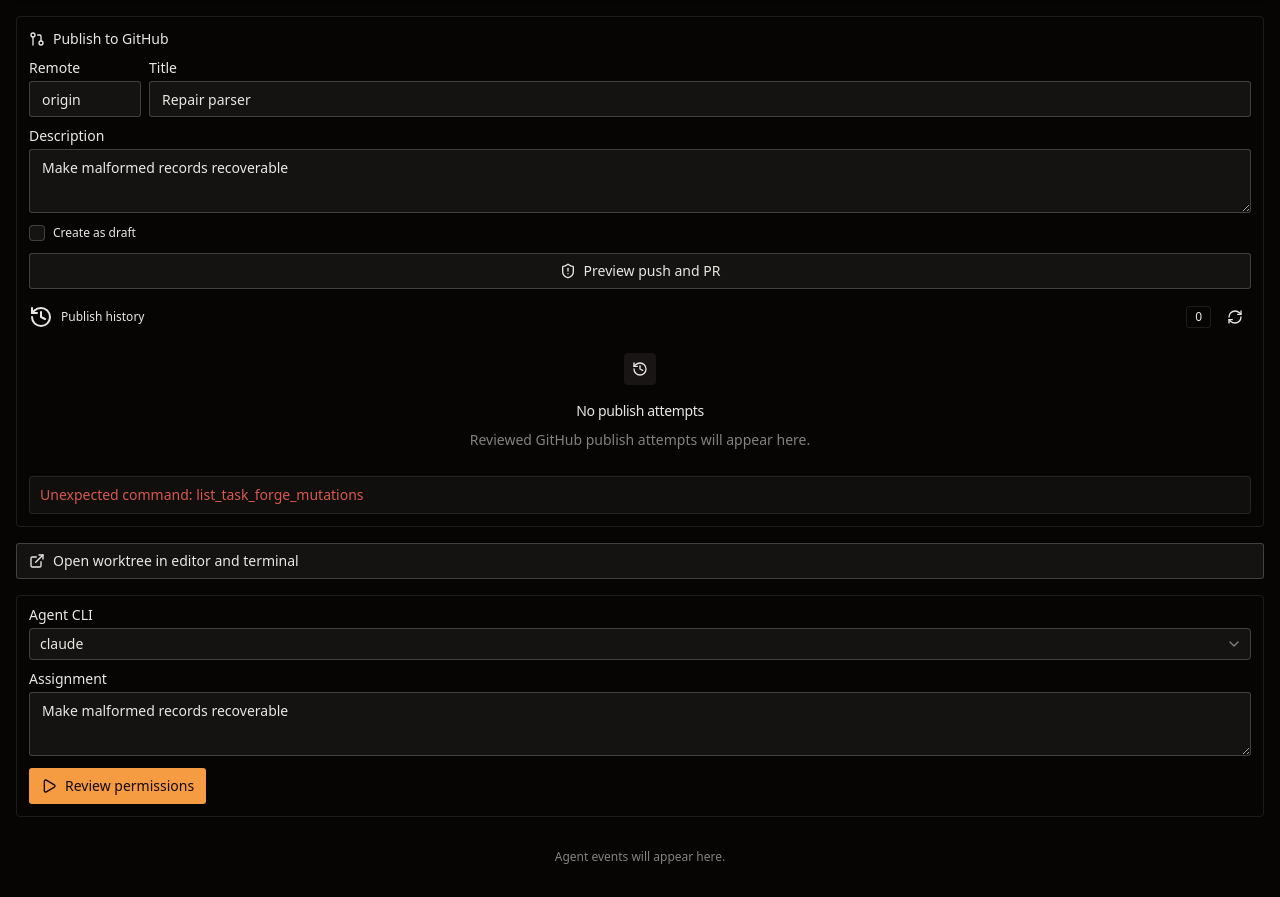
Test case: task agent workflow › keeps adapter probe failures visible and does not ask for permissions
(page scrolled)
What coordinates should you click on to do the following:
click the button "Review permissions"
I would click on:
 (118, 786)
Its box is [29,768,206,804].
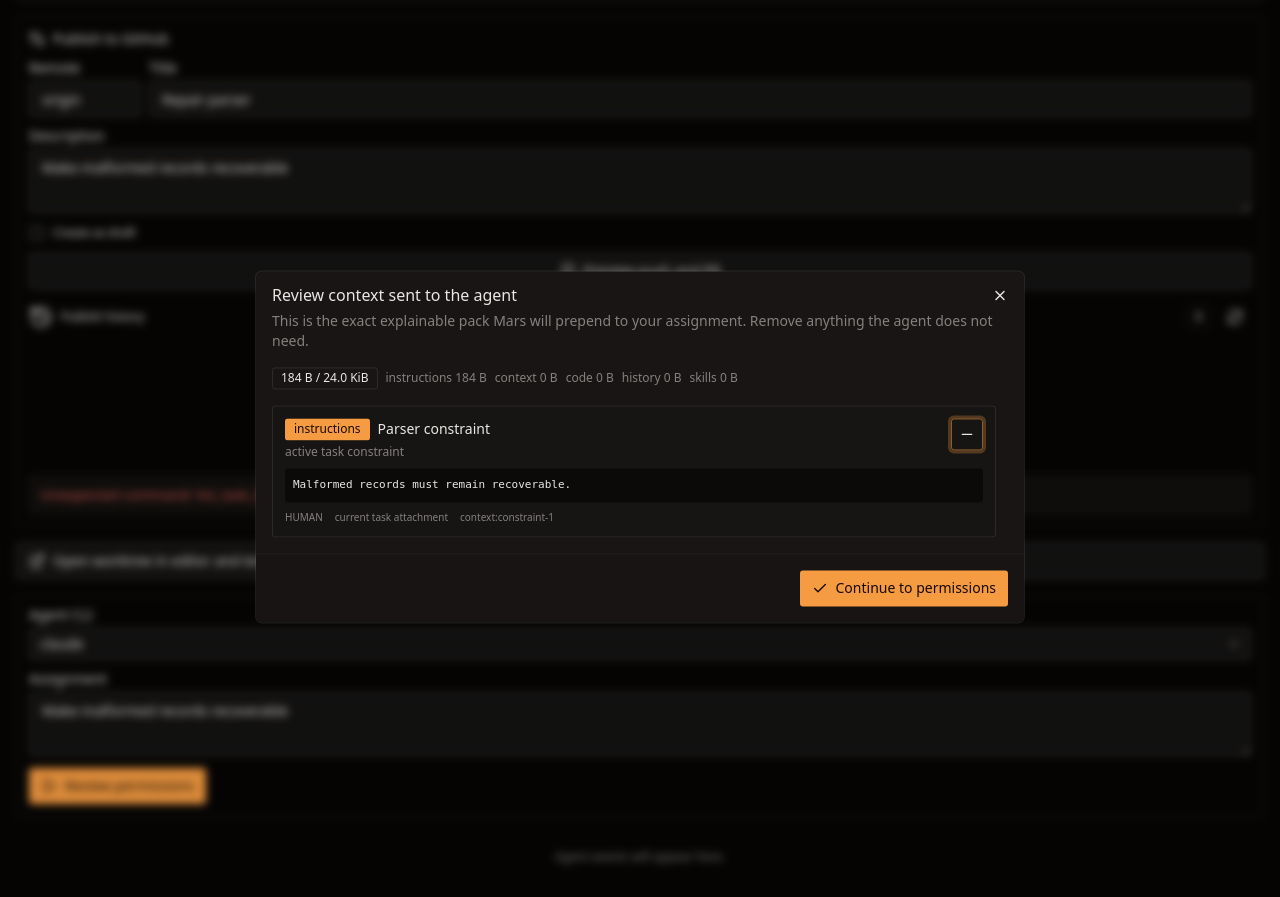
Now the heading "Parser constraint" is shown, box [378,419,490,439]
What coordinates should you click on to do the following:
click the button "Continue to permissions"
I would click on:
 (904, 589)
Its box is [800,571,1008,607].
(page scrolled)
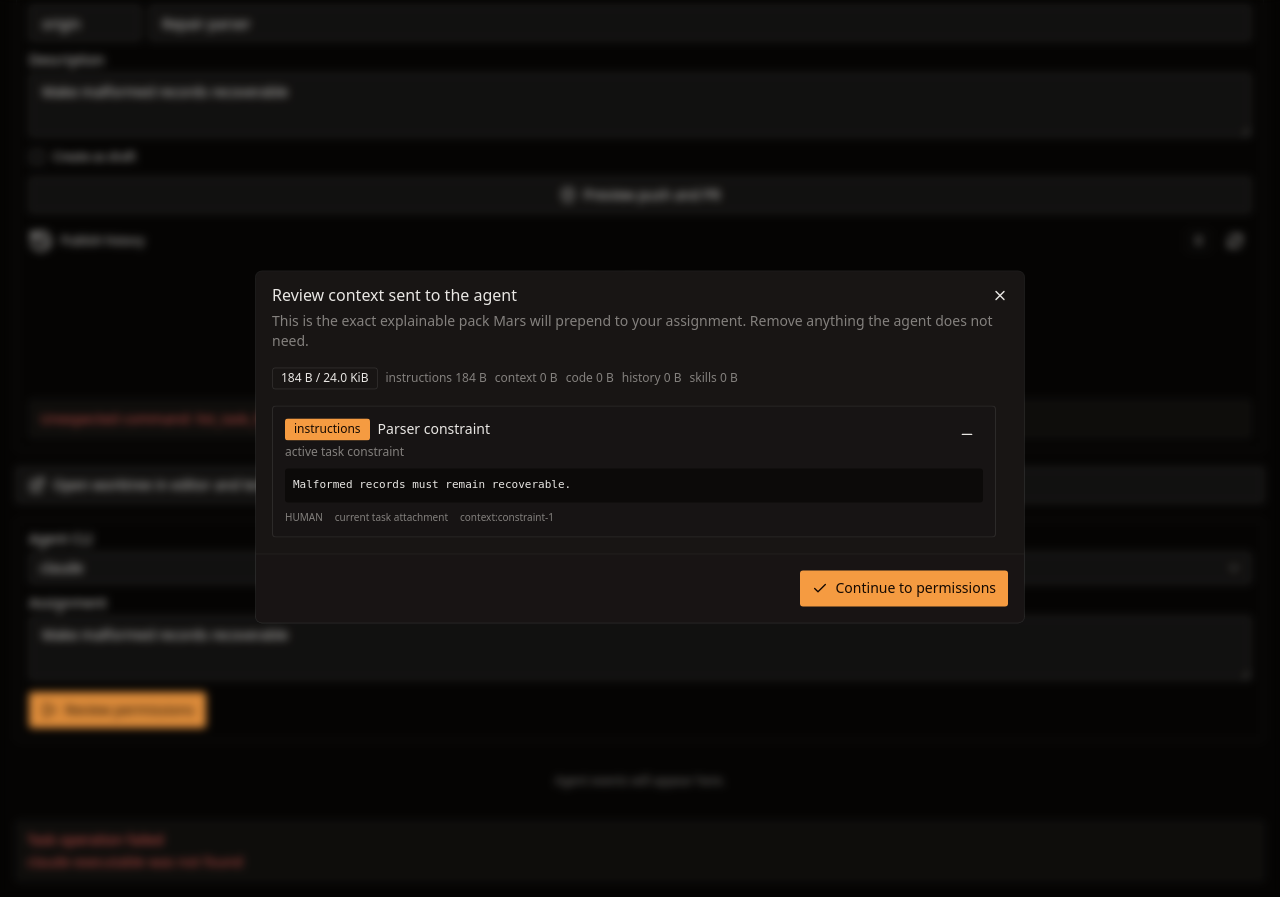
Now the message shows "claude executable was not found", box [27,852,243,871]
